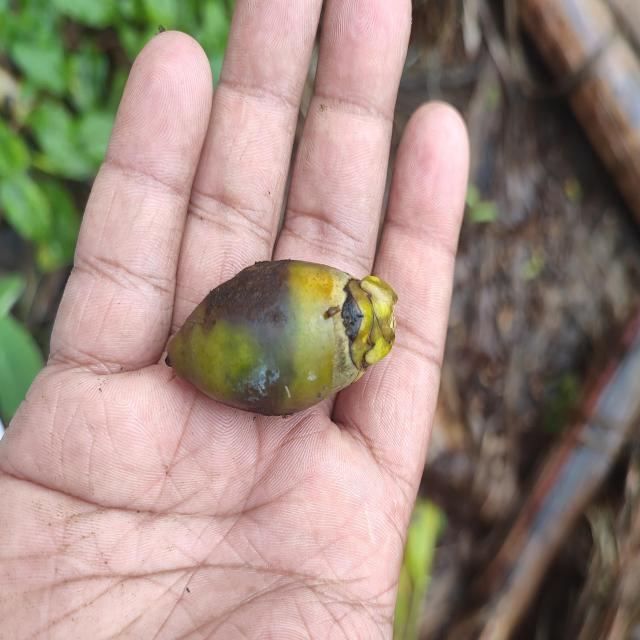damaged: (166, 260, 397, 415)
